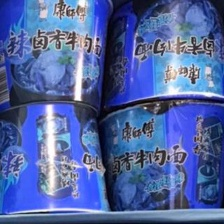paper_cup: (93, 92, 224, 210), (100, 0, 223, 112), (0, 96, 113, 216), (0, 0, 117, 111)
